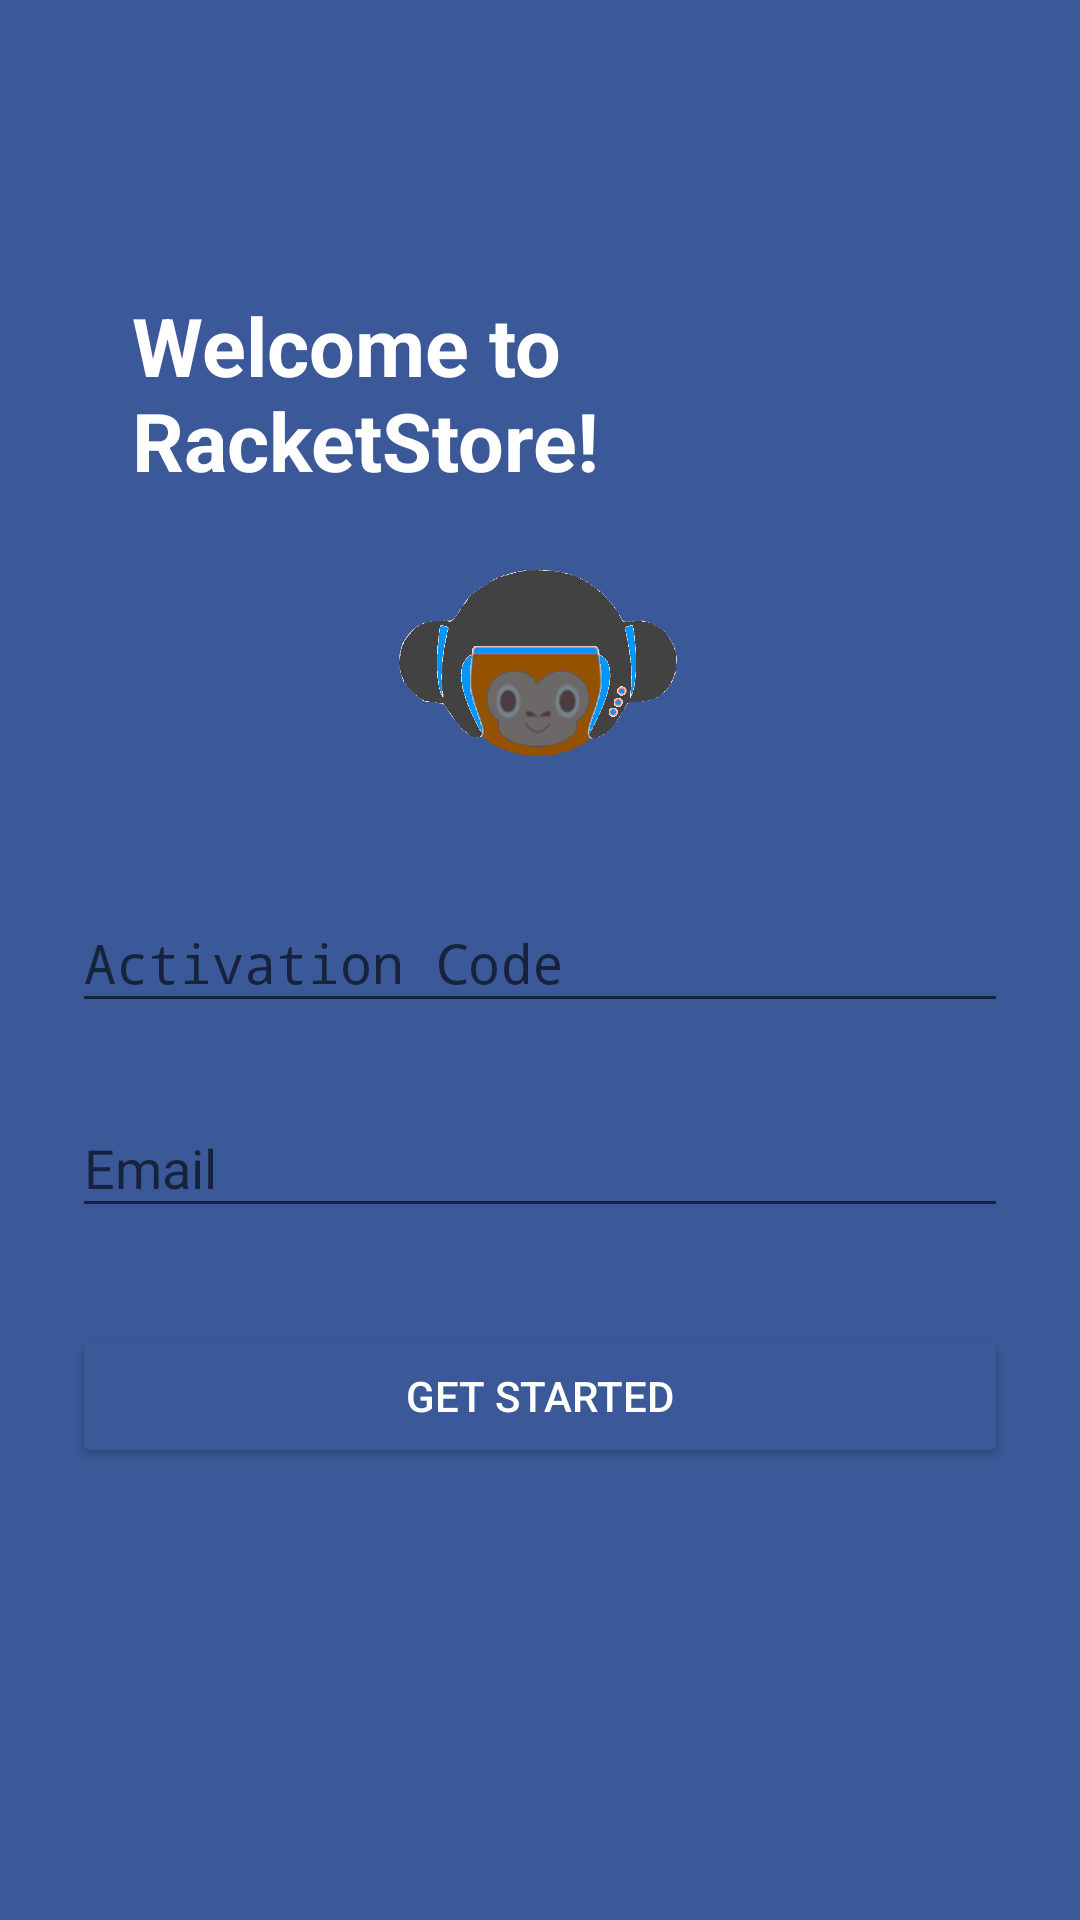

Named icons in this screenshot (1080 x 1920) and their centers, point (x, y):
monkey: point (538, 663)
